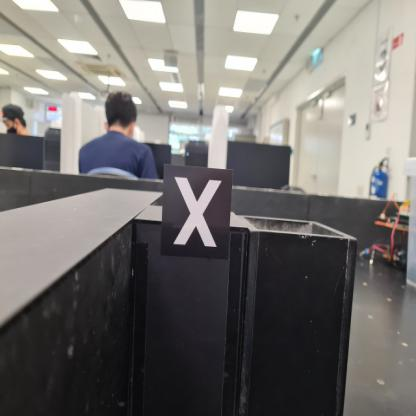x: (162, 162, 233, 262)
